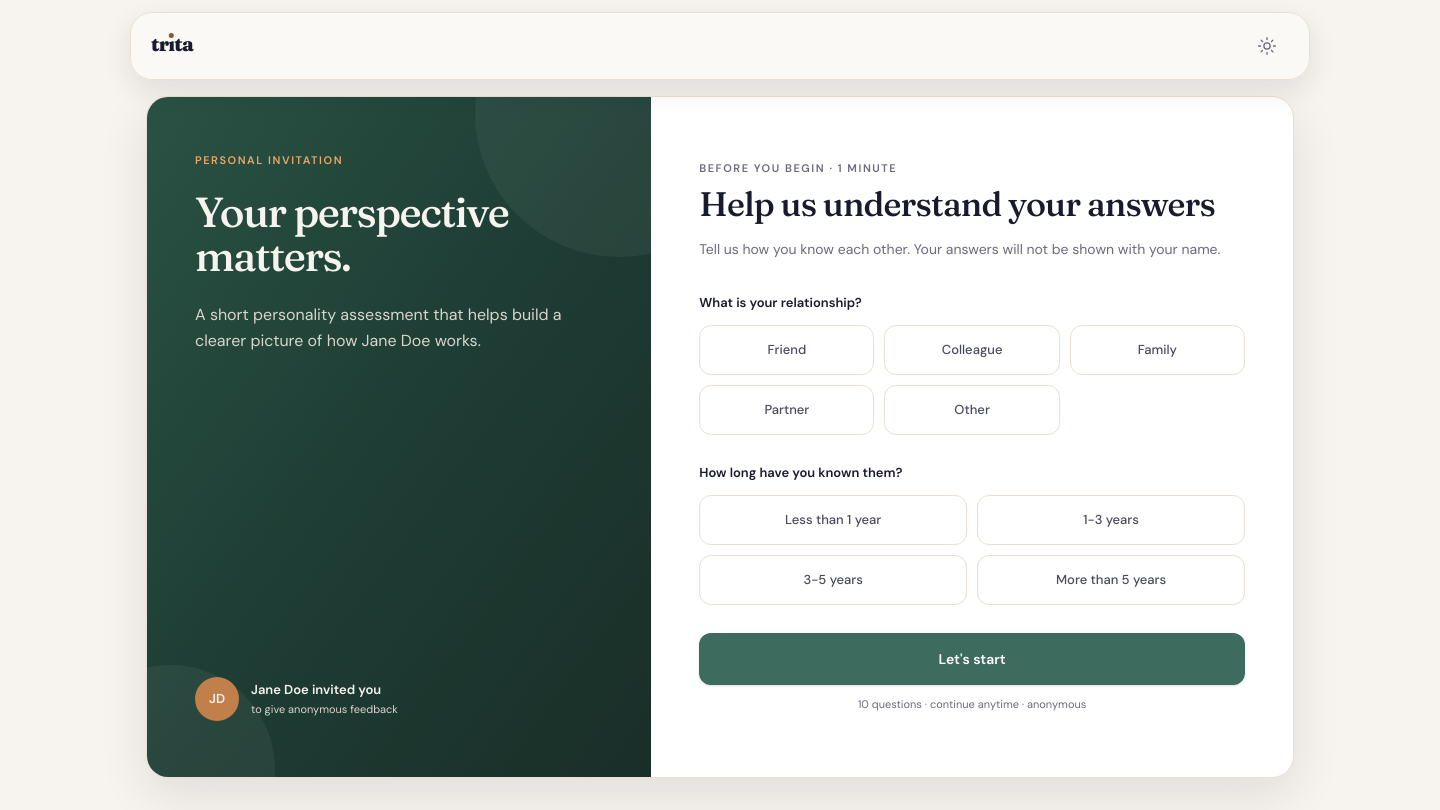
it: C5.5 ObserverClient integration › assessment phase › next button navigates forward after answering
Click the button "Friend": [787, 350] box [699,325,874,375]
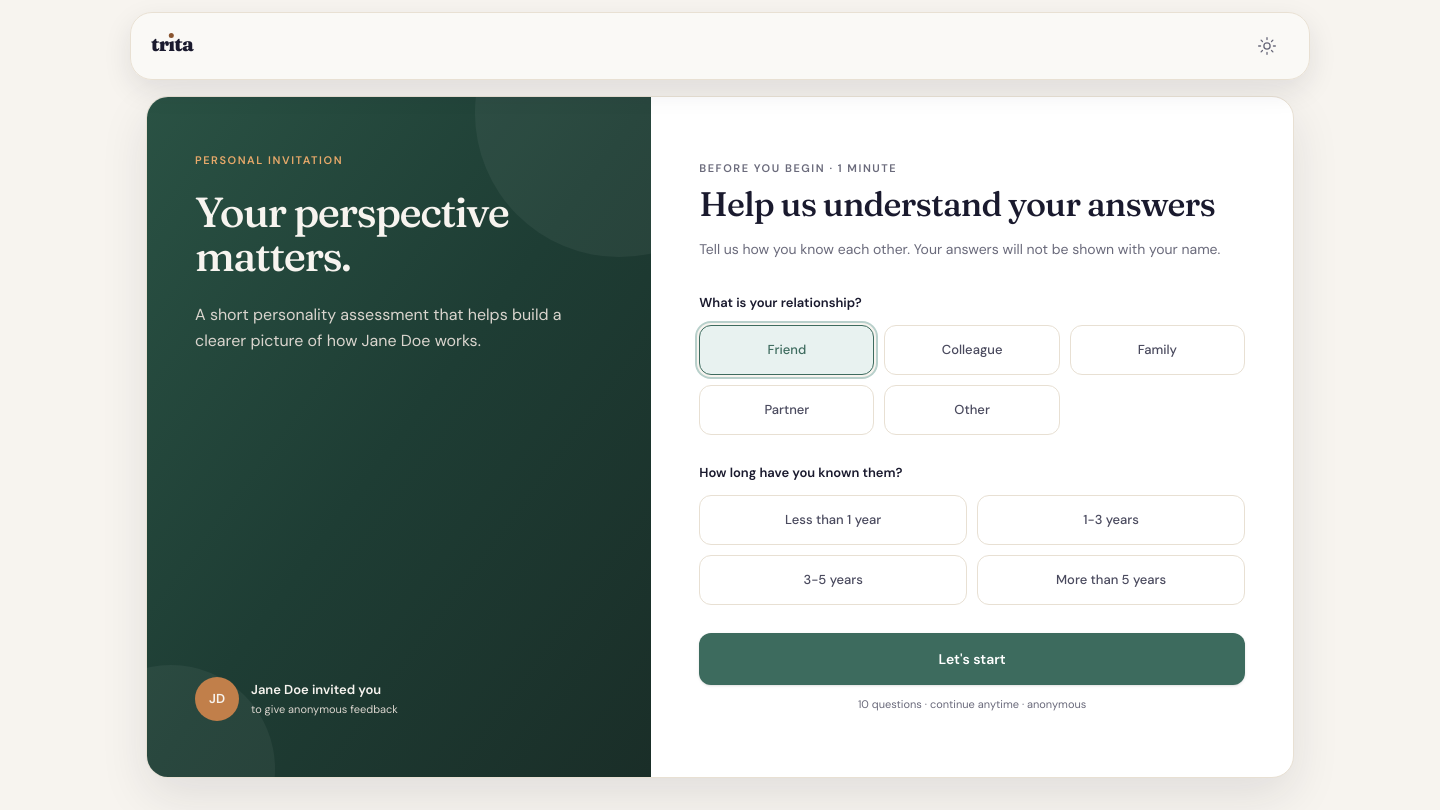
Click the button "Less than 1 year": [833, 520] box [699,495,967,545]
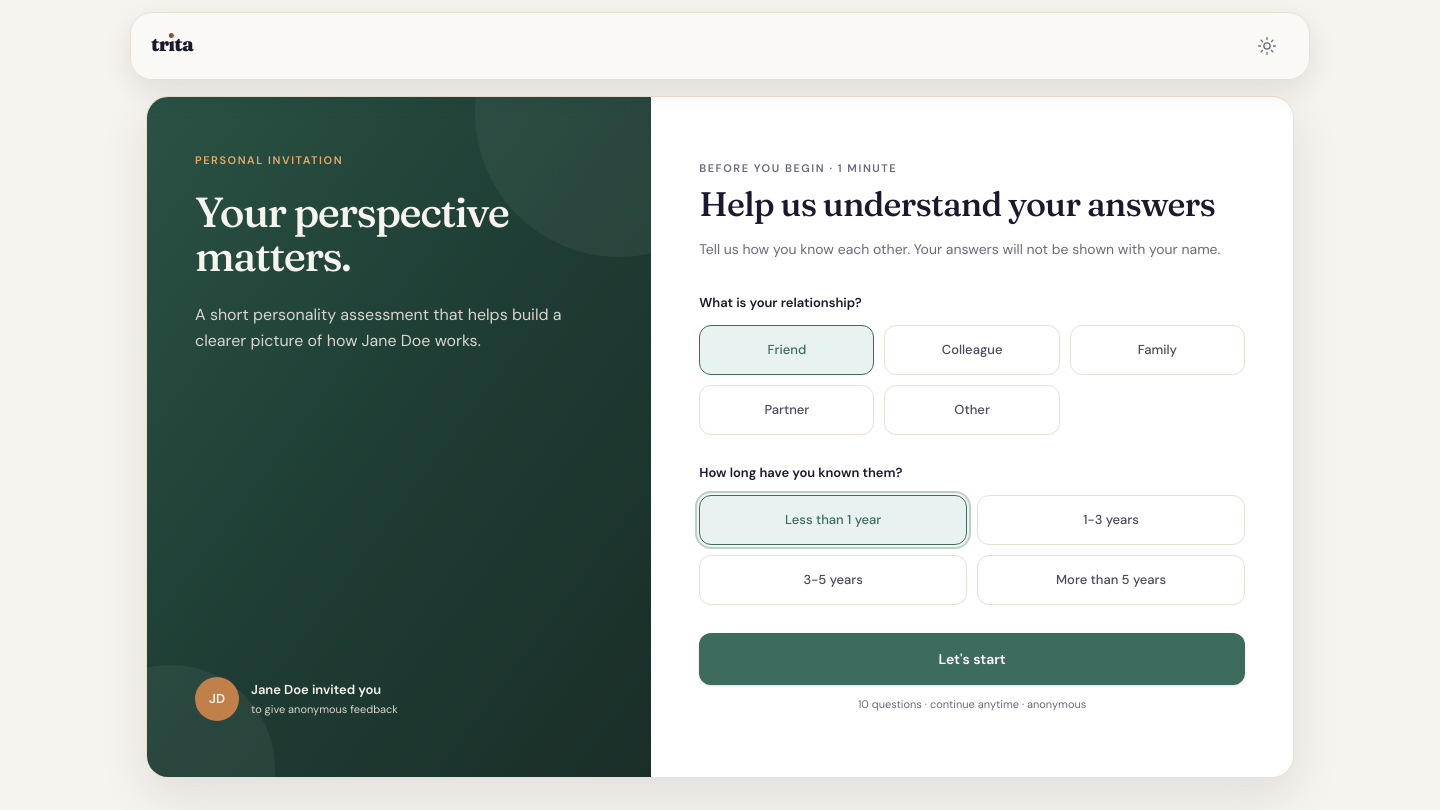
Click the button "Let's start": [972, 659] box [699,633,1245,685]
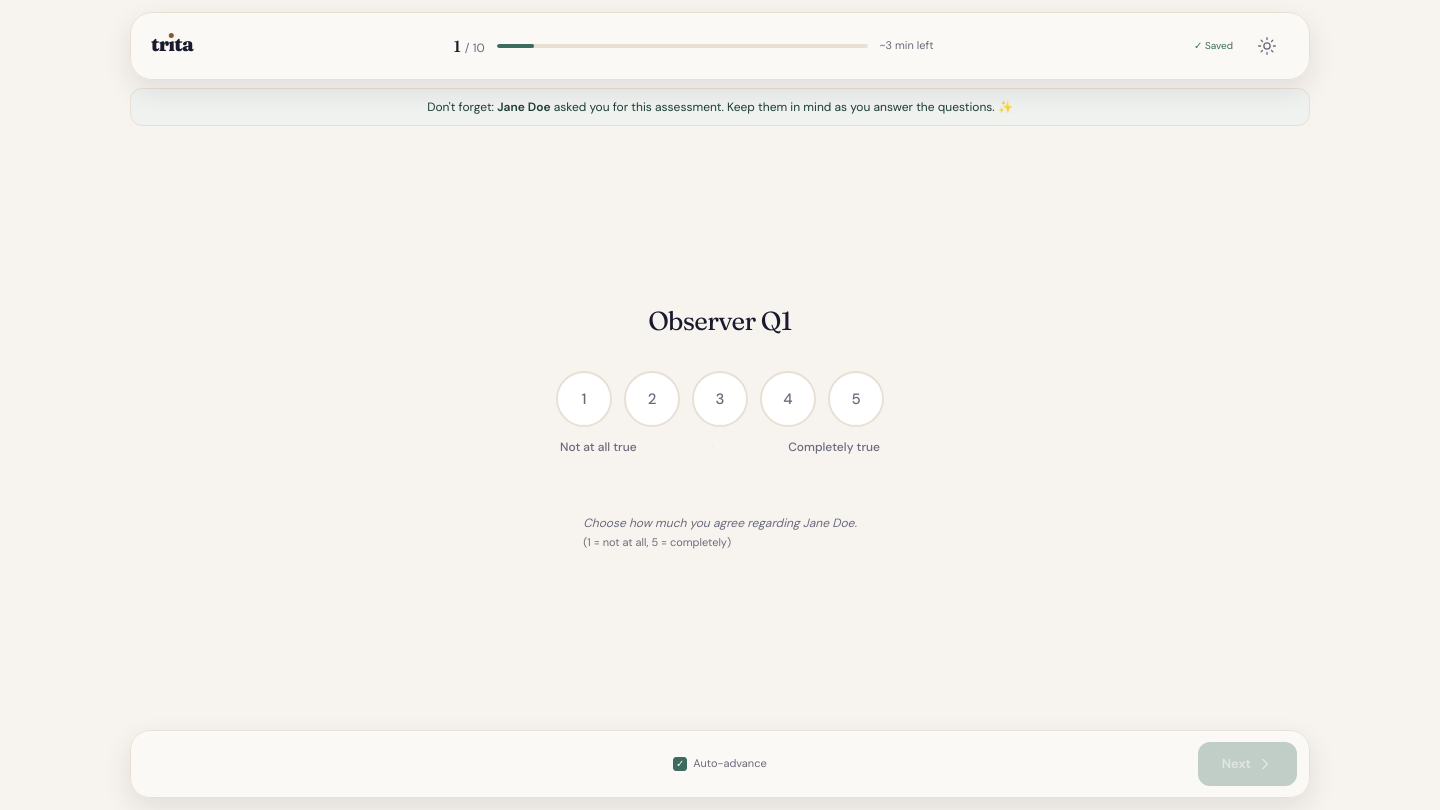
Result: the text "Observer Q1" is shown at [648,305,792,339]
Click the checkbox: [720, 764] box [673,756,767,771]
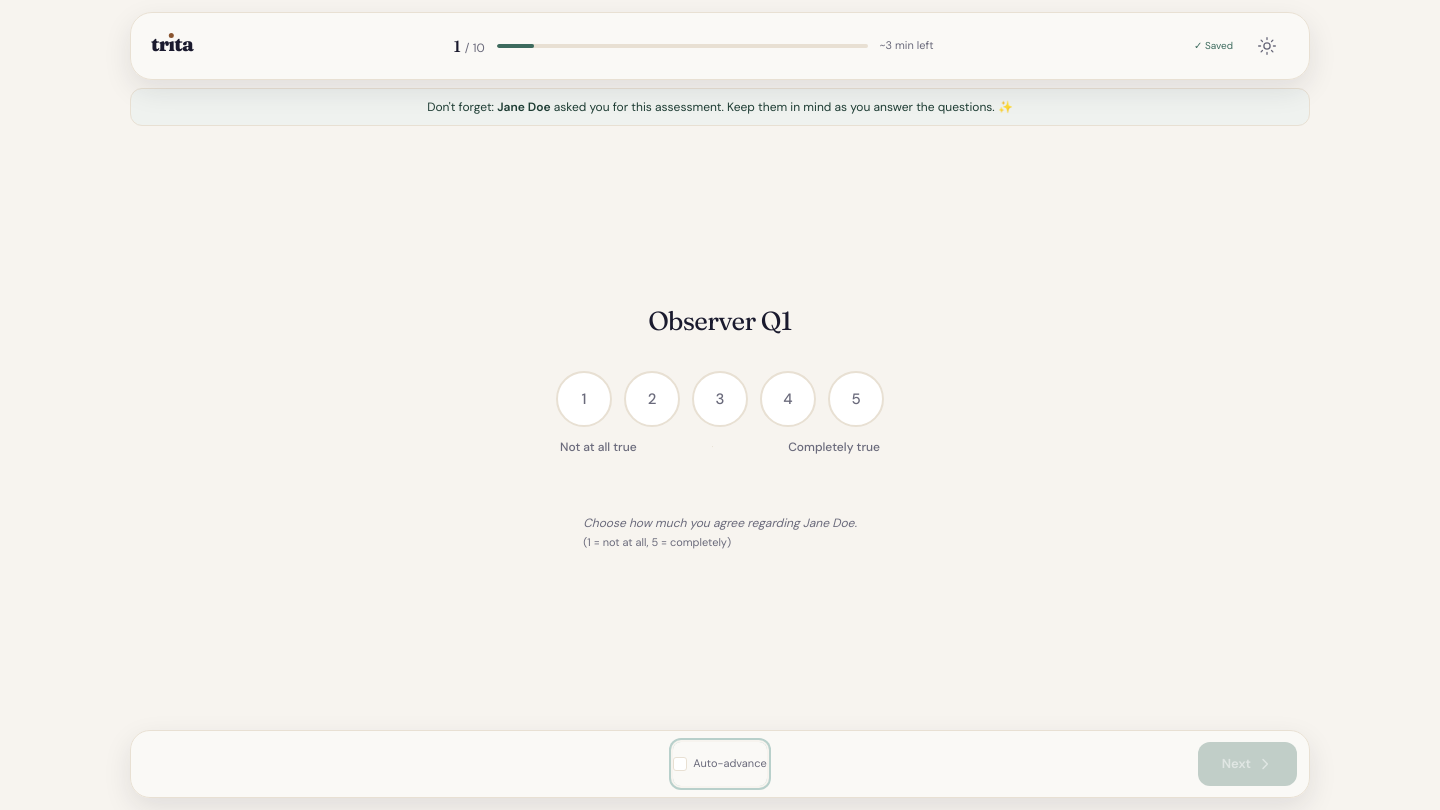
Click the radio button named "3 - ": [720, 399] box [692,371,748,427]
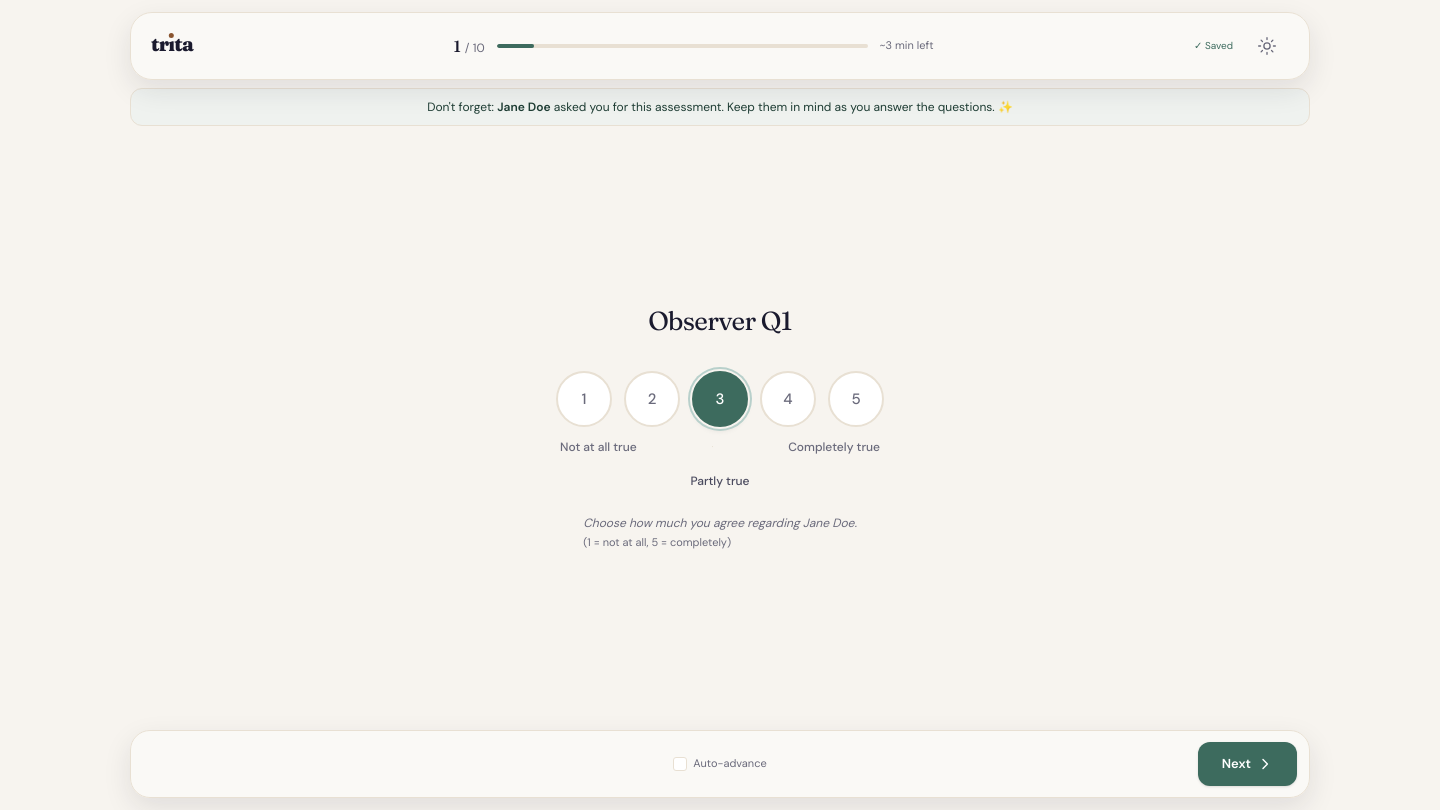
Click the button "Next": [1247, 764] box [1198,742,1297,786]
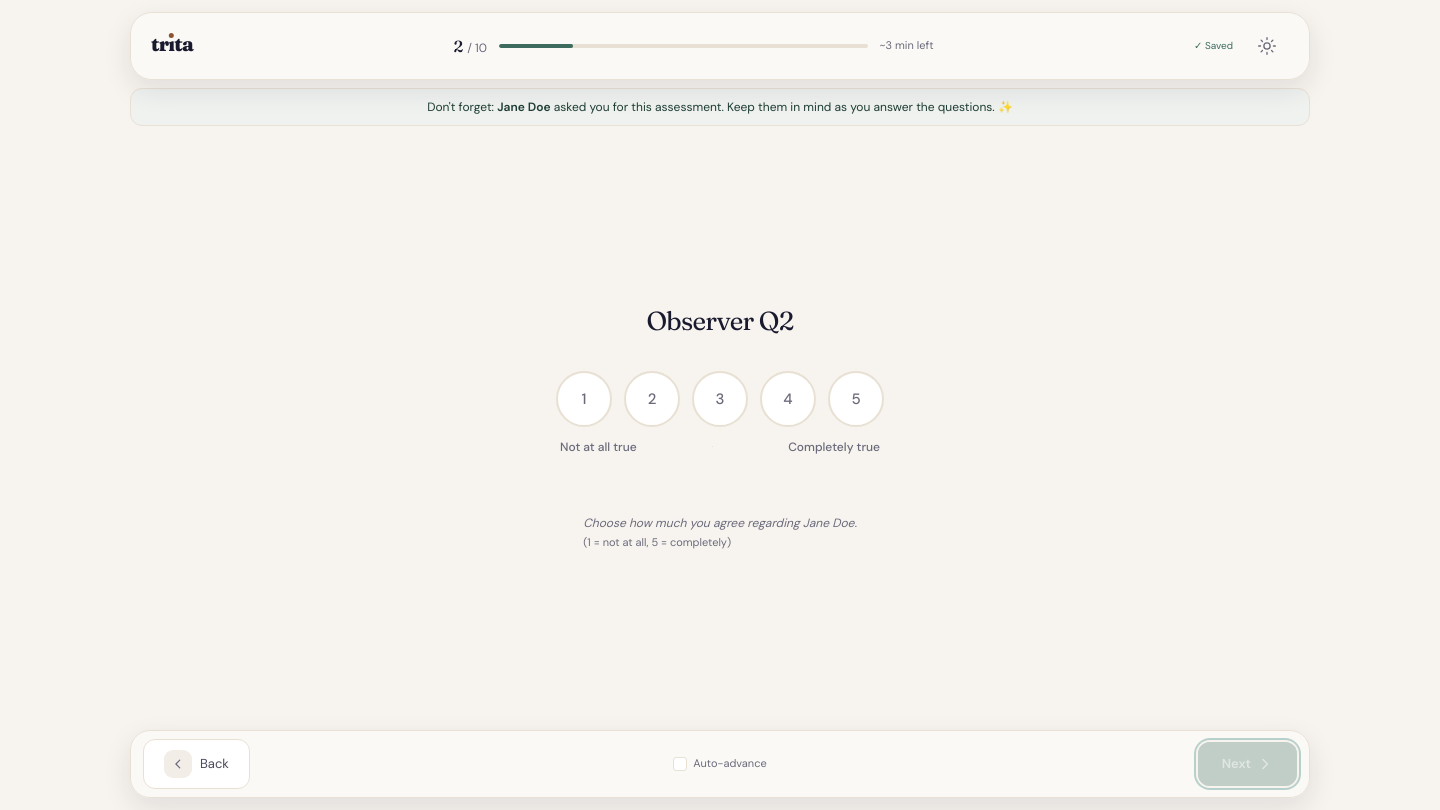
Result: the text "Observer Q2" is shown at [646,305,794,339]
